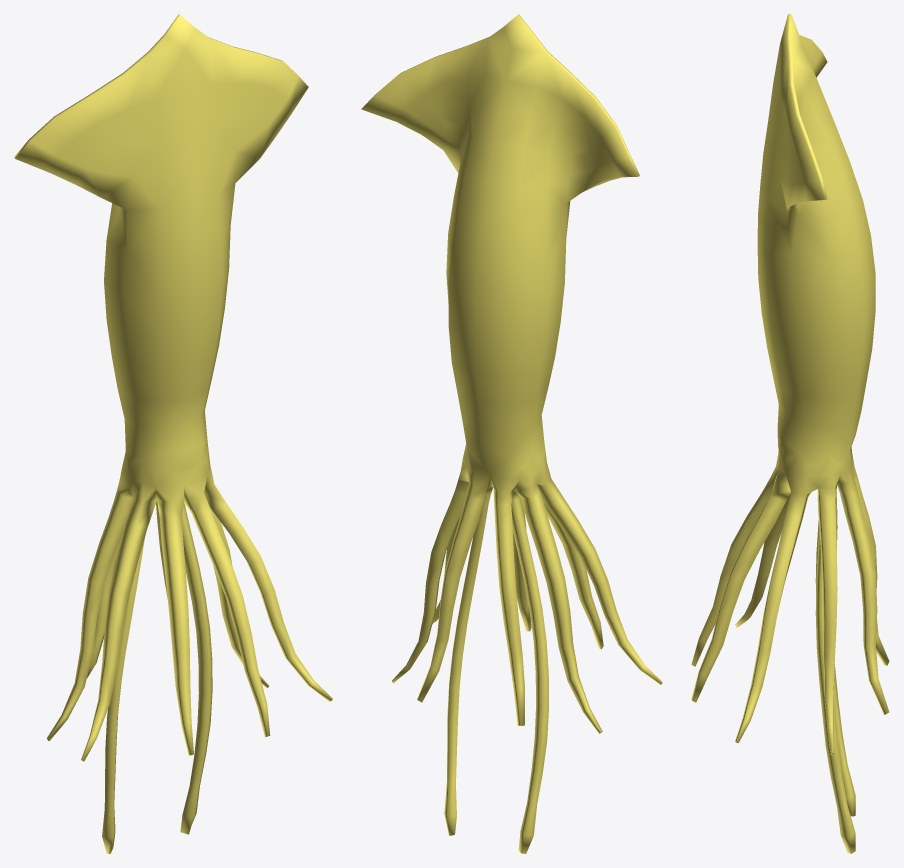
Rendered from Squid.glb.
3 views of the same model, side by side, from view 1: azimuth 30°, elevation 25°; view 2: azimuth 150°, elevation 25°; view 3: azimuth 270°, elevation 25° (orthographic). The views are drawn at different scales.
Visible parts, largest first — view 1: Squid_002; view 2: Squid_002; view 3: Squid_002.
Boxes of the visible parts, x1=… form: Squid_002: x1=14, y1=14, x2=332, y2=853; Squid_002: x1=361, y1=14, x2=662, y2=853; Squid_002: x1=691, y1=14, x2=889, y2=853.
Size of what is drawn, in the model's own units: 0.8694 by 2.41 by 0.5272.
Materials: 1 (1 with a texture image).
